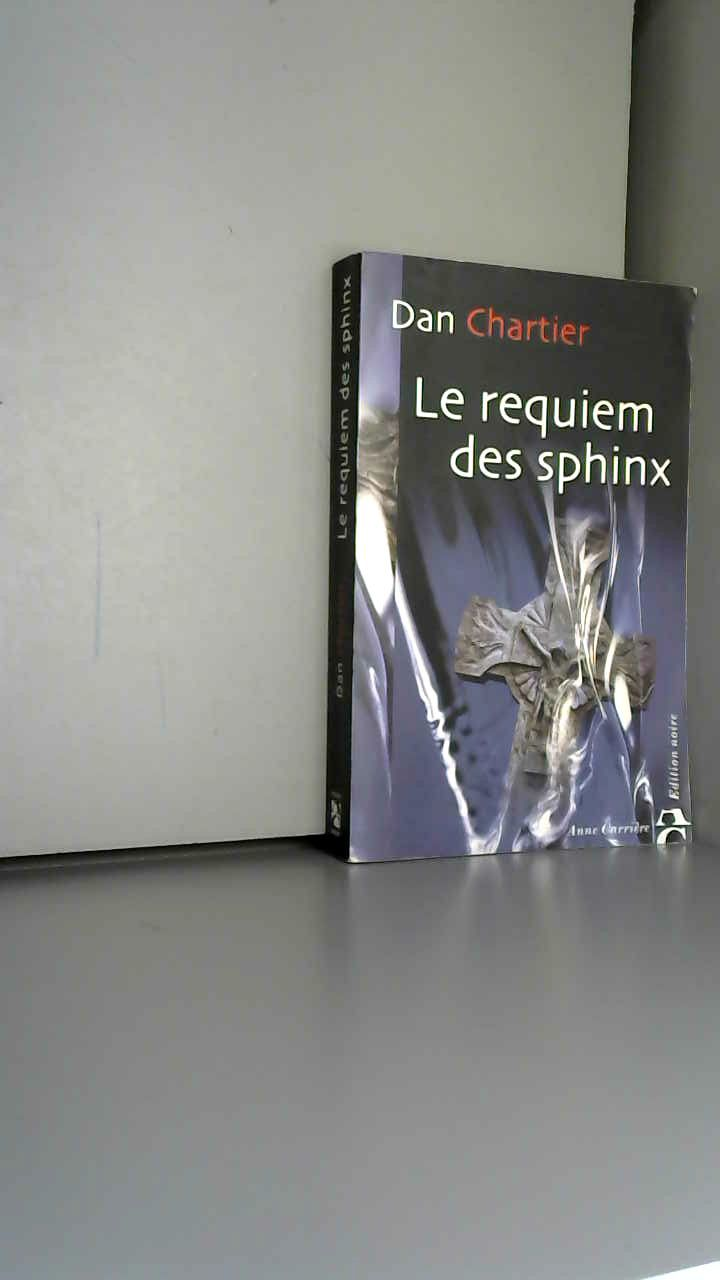book: (300, 220, 720, 880)
